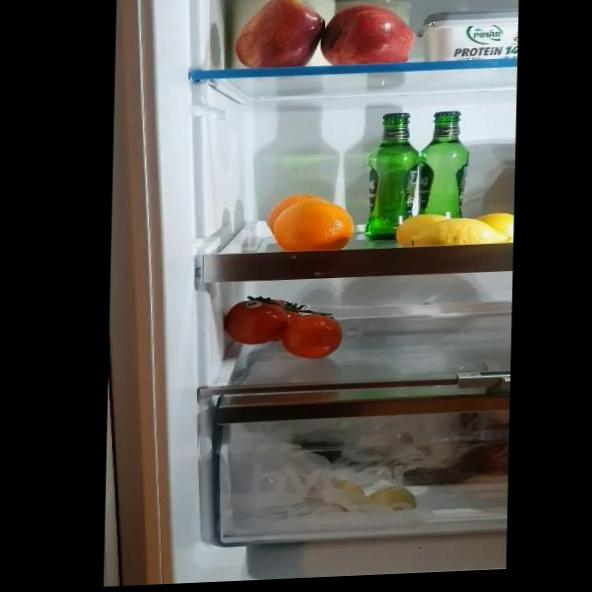apple: (236, 0, 325, 68), (322, 2, 413, 65)
cheese: (421, 9, 520, 61)
lemon: (409, 217, 502, 247)
mineral water: (365, 113, 416, 235), (420, 107, 469, 216)
orange: (273, 195, 357, 250)
tomato: (282, 313, 342, 360), (226, 296, 284, 341)
